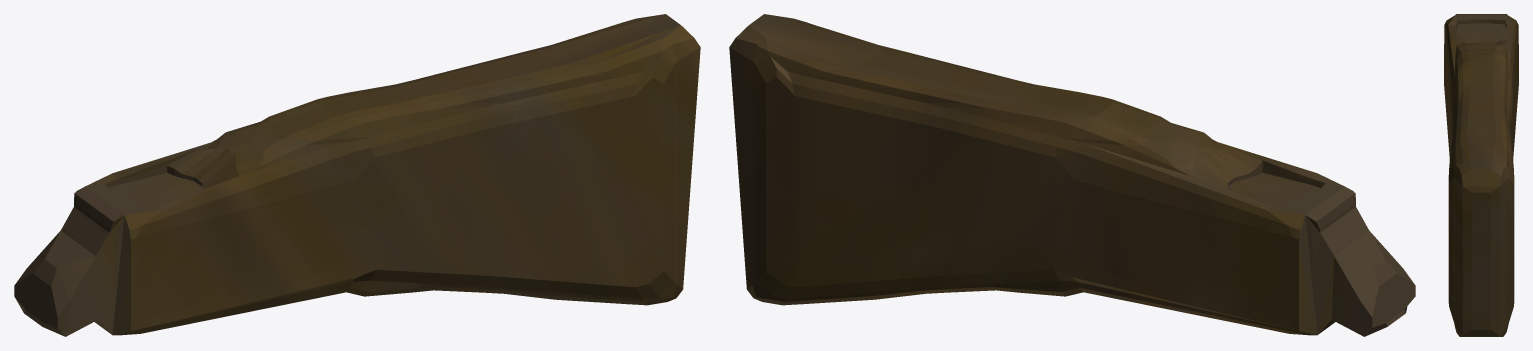
The model's file is ButtOfTheAK(wood).fbx.
3 renders of one model, left to right at view 1: azimuth 30°, elevation 25°; view 2: azimuth 150°, elevation 25°; view 3: azimuth 270°, elevation 25°, orthographic. The views are drawn at different scales.
Visible parts, largest first — view 1: ButtOfTheWeapon; view 2: ButtOfTheWeapon; view 3: ButtOfTheWeapon.
Boxes of the visible parts, x1,y1,x2,y2 form: ButtOfTheWeapon: (14,14,700,336); ButtOfTheWeapon: (729,14,1415,336); ButtOfTheWeapon: (1444,14,1518,336).
Size of the model in its own units: 61.02 by 23.69 by 9.19.
